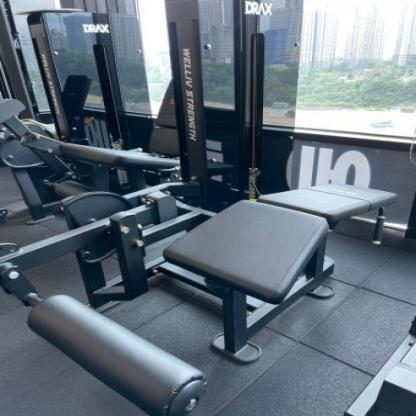reg curl machine: (0, 0, 404, 416)
